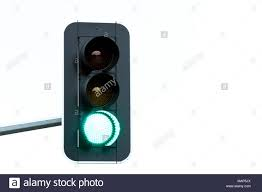green: (71, 28, 126, 157), (77, 34, 122, 152), (83, 37, 119, 146)
